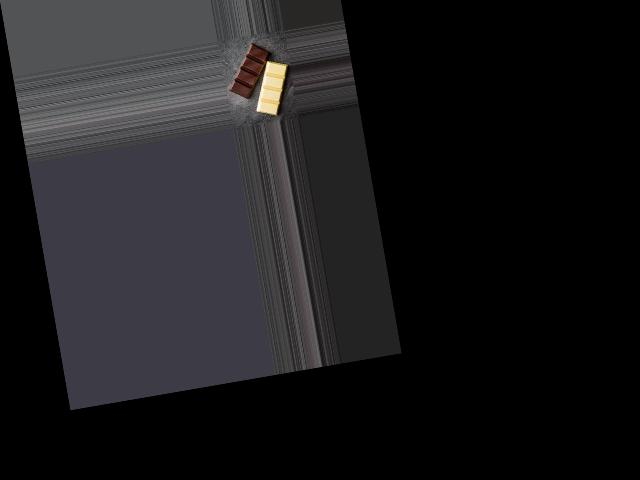chocolate: (223, 38, 295, 125)
